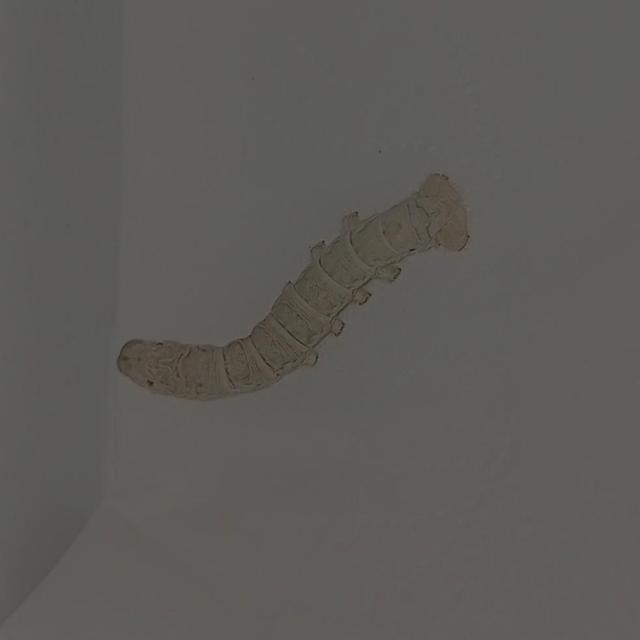Healthy: (92, 142, 499, 429)
